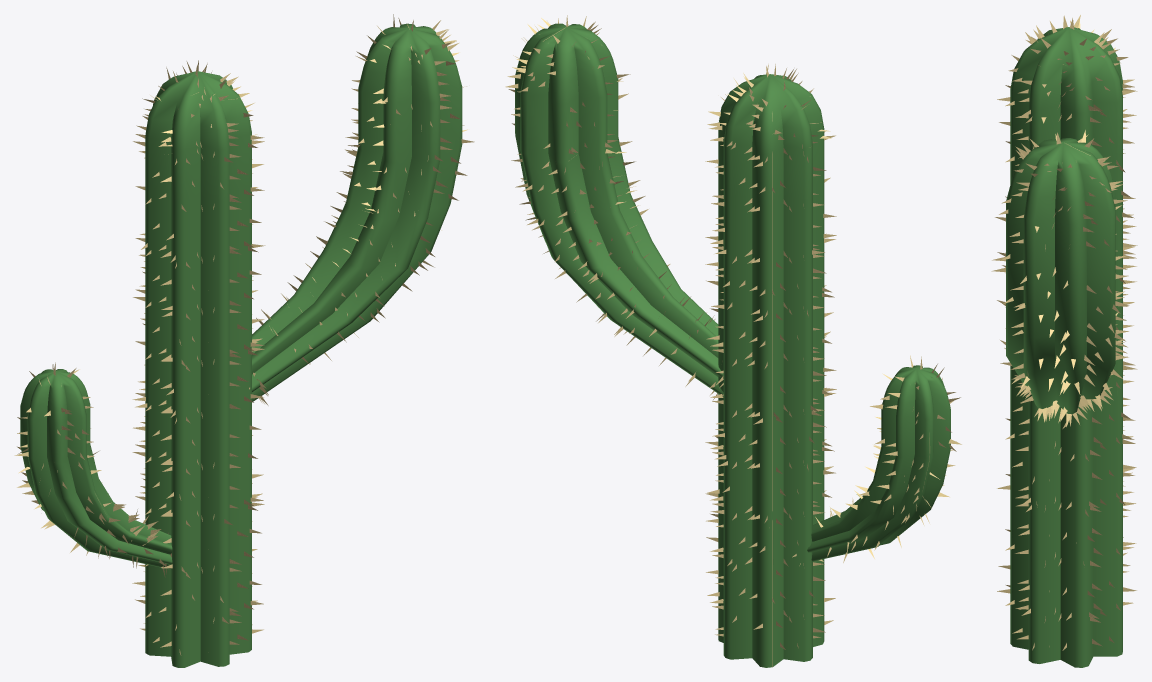
The model's file is Cactus.fbx.
3 renders of one model, left to right at view 1: azimuth 30°, elevation 25°; view 2: azimuth 150°, elevation 25°; view 3: azimuth 270°, elevation 25°, orthographic. The views are drawn at different scales.
Visible parts, largest first — view 1: Cactus; view 2: Cactus; view 3: Cactus.
Part boxes in pixels (bbox=[...]): Cactus: bbox=[14, 14, 474, 667]; Cactus: bbox=[505, 15, 961, 667]; Cactus: bbox=[991, 15, 1137, 667].
Bounding box in the file's own units: 1.63 × 0.4258 × 2.01.
